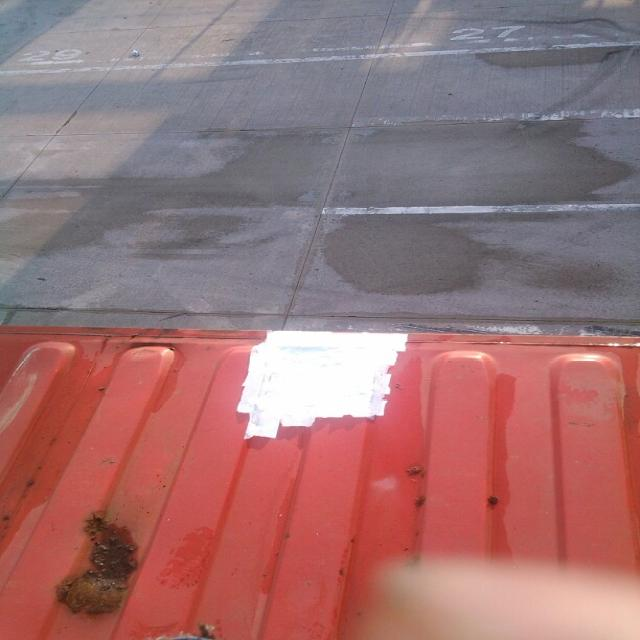rust: (52, 508, 153, 620)
